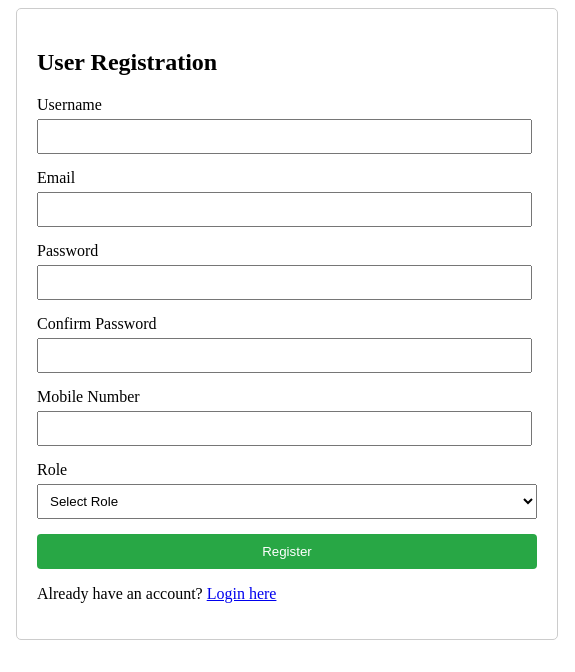
it: RegisterComponent › Frontend_day35_should_show_username_required_error_message_on_register_page
The width and height of the screenshot is (575, 672).
Clear the field with id "username" at (284, 136), box [37,119,532,154]
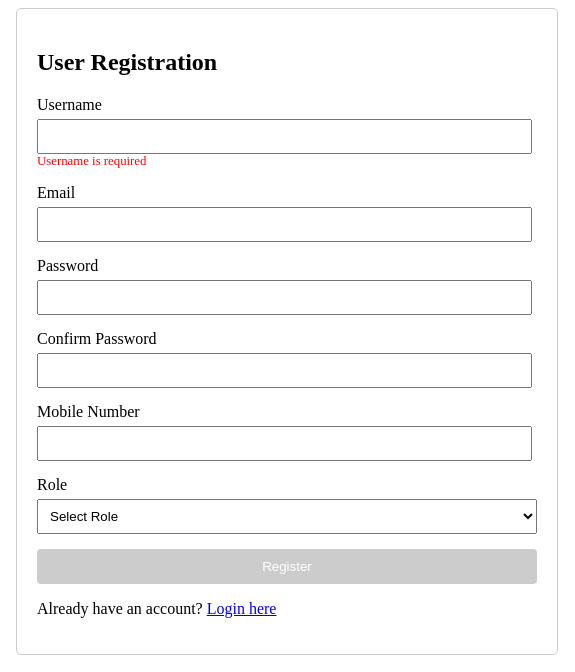
Expected: the text with class "error-message" reads "Username is required", [37,154,146,168]
